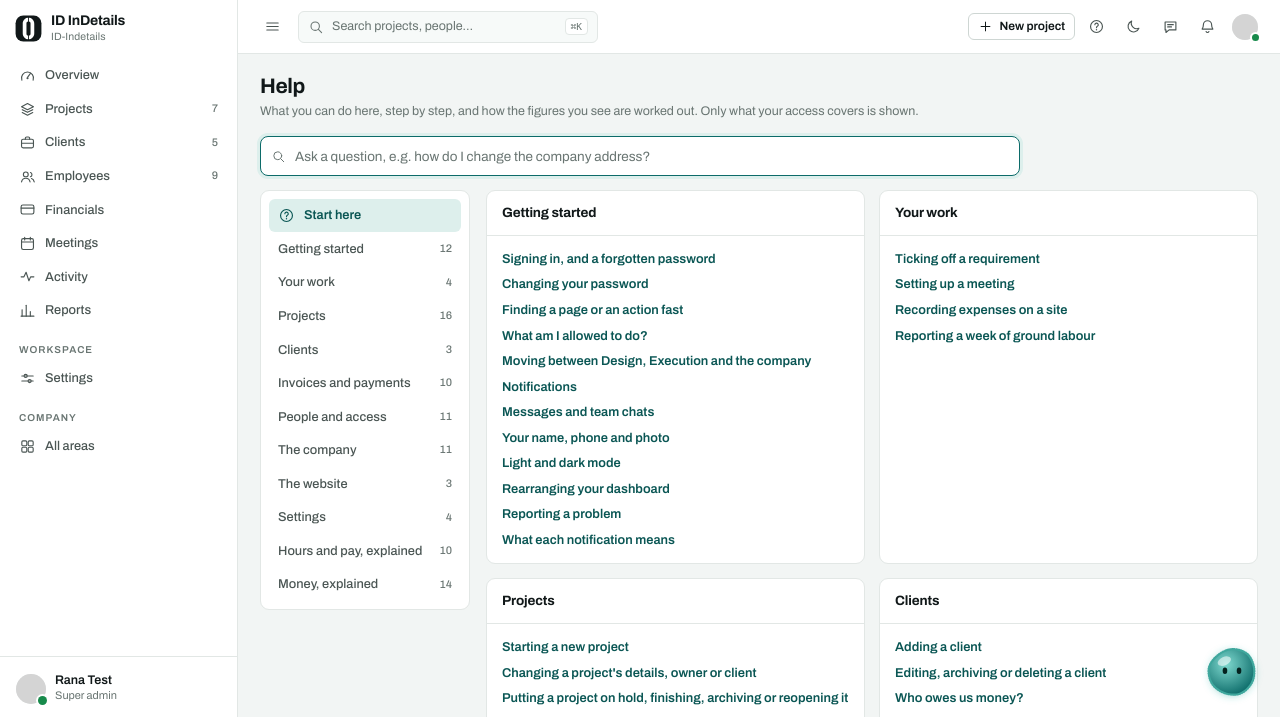
Test: Proton › carry out a proposed change only on Confirm, sending nothing but its id and conversation
Check: the field named "Search Help" is shown, box [260, 136, 1020, 176]
Click the button named "Proton, " at (1232, 672), box [1200, 640, 1264, 704]
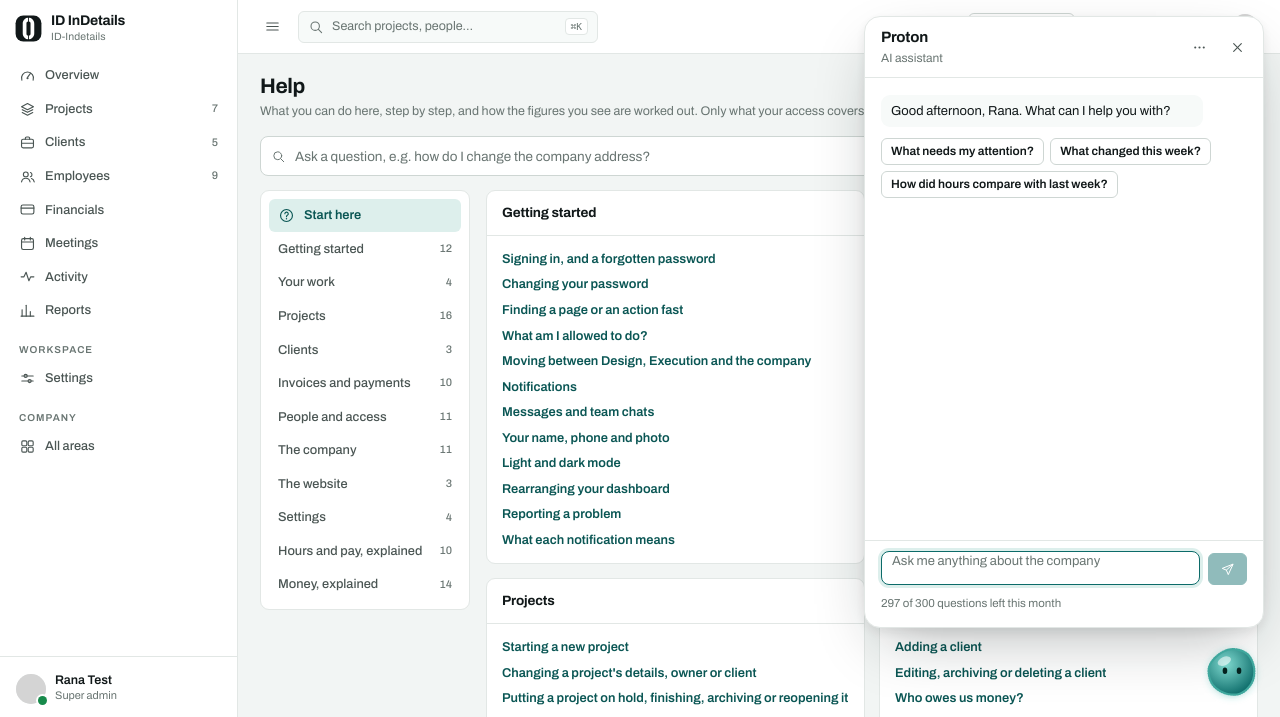
Type "Put Villa Mounir on hold" into the text box named "Ask Proton" at (1040, 568), box [881, 551, 1200, 585]
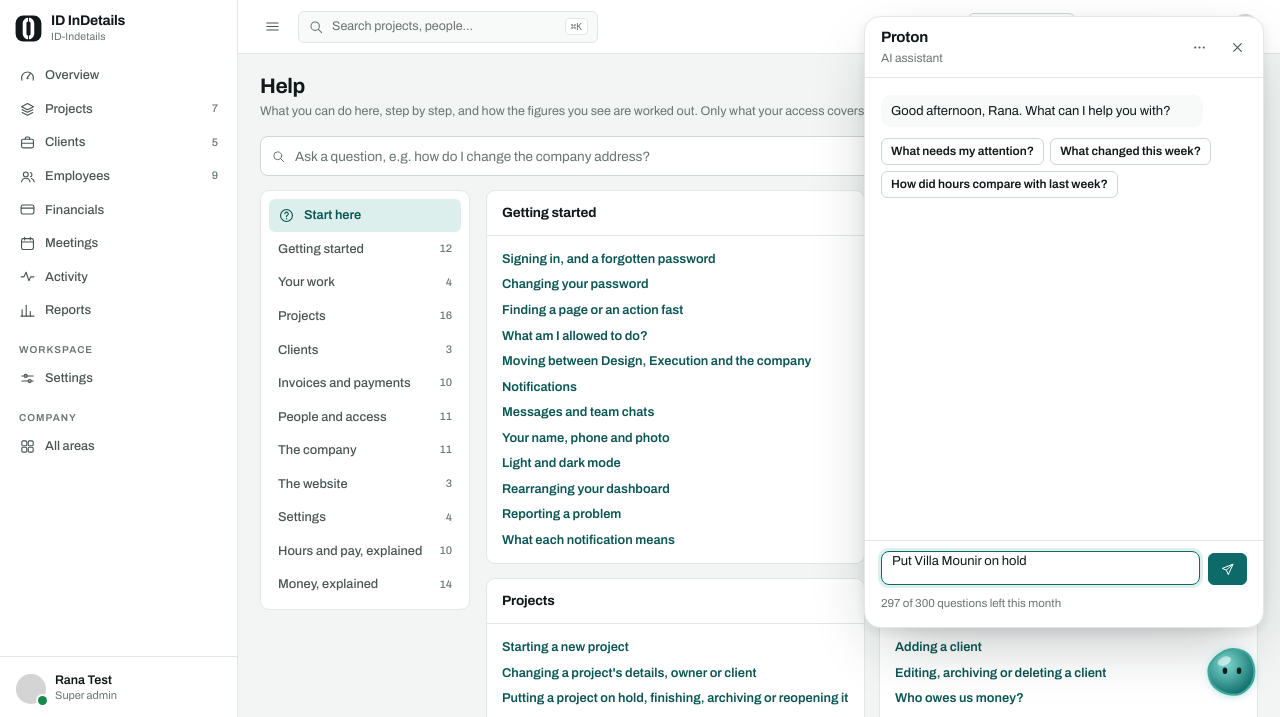
Click the button named "Send" at (1228, 569), box [1208, 553, 1247, 585]
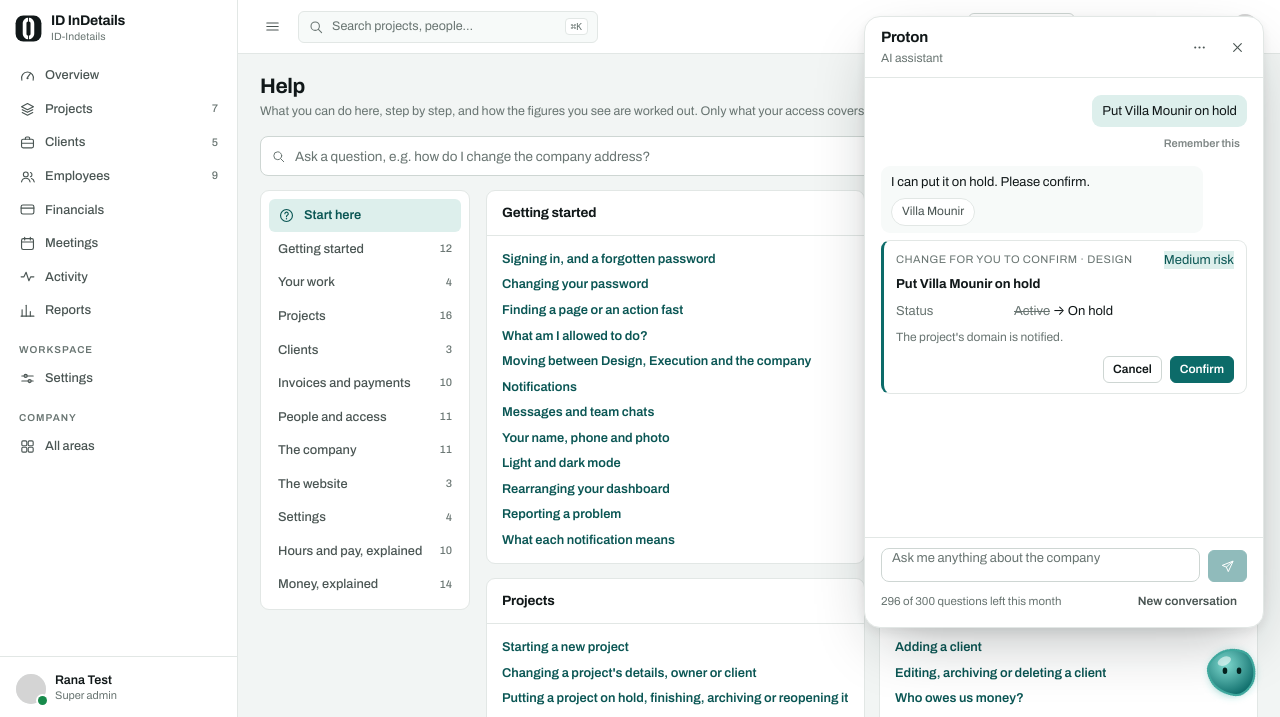
Check: the text "Medium risk" is shown, box [1164, 250, 1234, 269]
Check: the text "Active" is shown, box [1014, 304, 1050, 318]
Type "yes" into the text box named "Ask Proton" at (1040, 565), box [881, 548, 1200, 582]
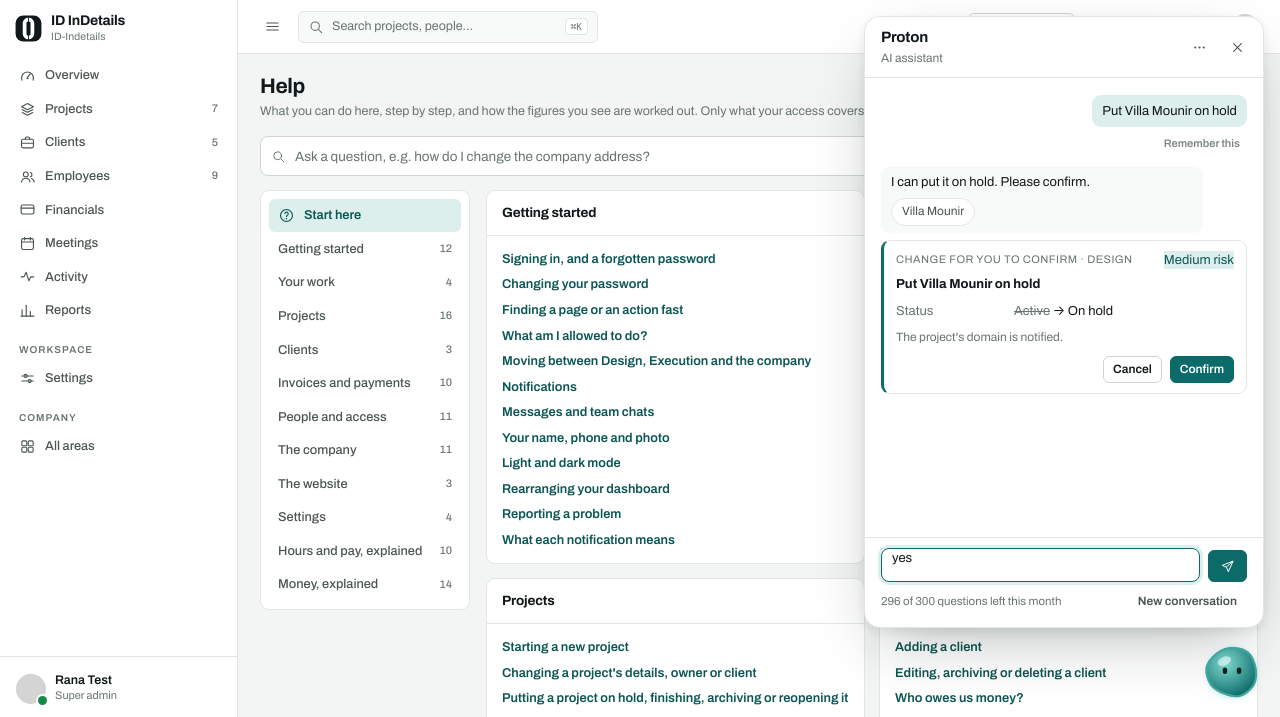
Click the button named "Send" at (1228, 566), box [1208, 550, 1247, 582]
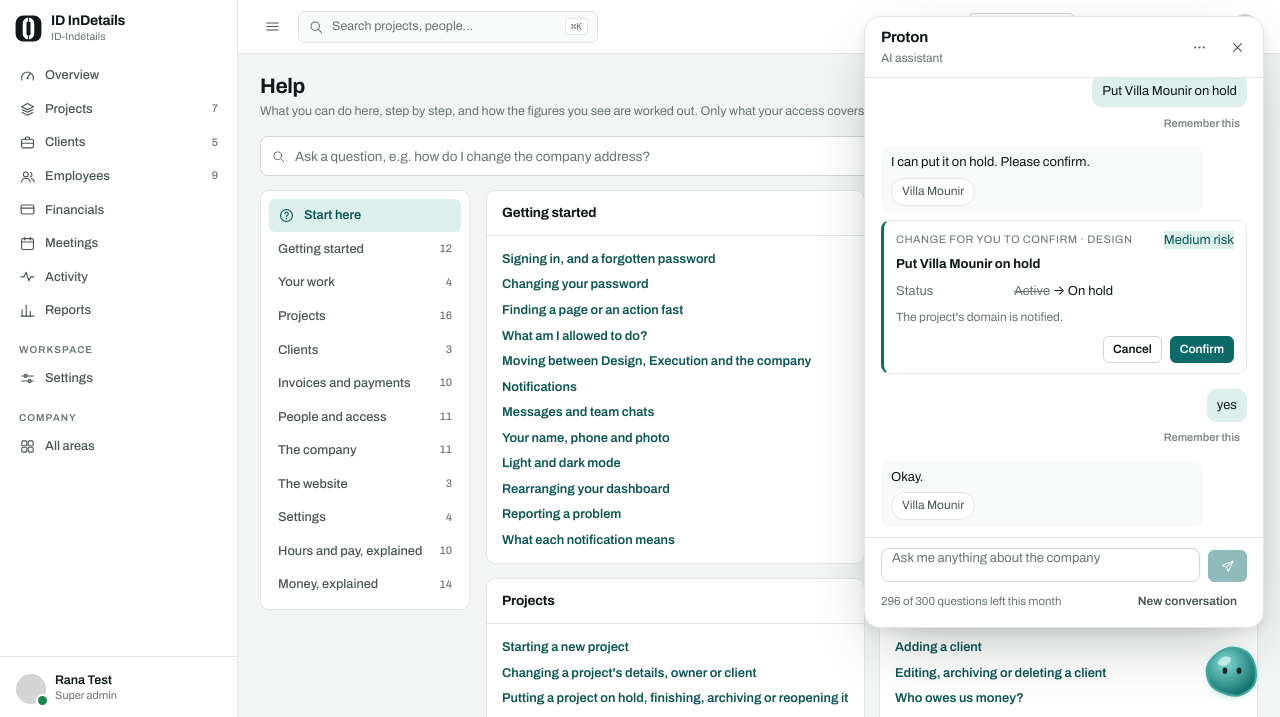
Check: the text "Okay." is shown, box [891, 470, 923, 484]
Click the button "Confirm" at (1202, 350), box [1170, 336, 1234, 363]
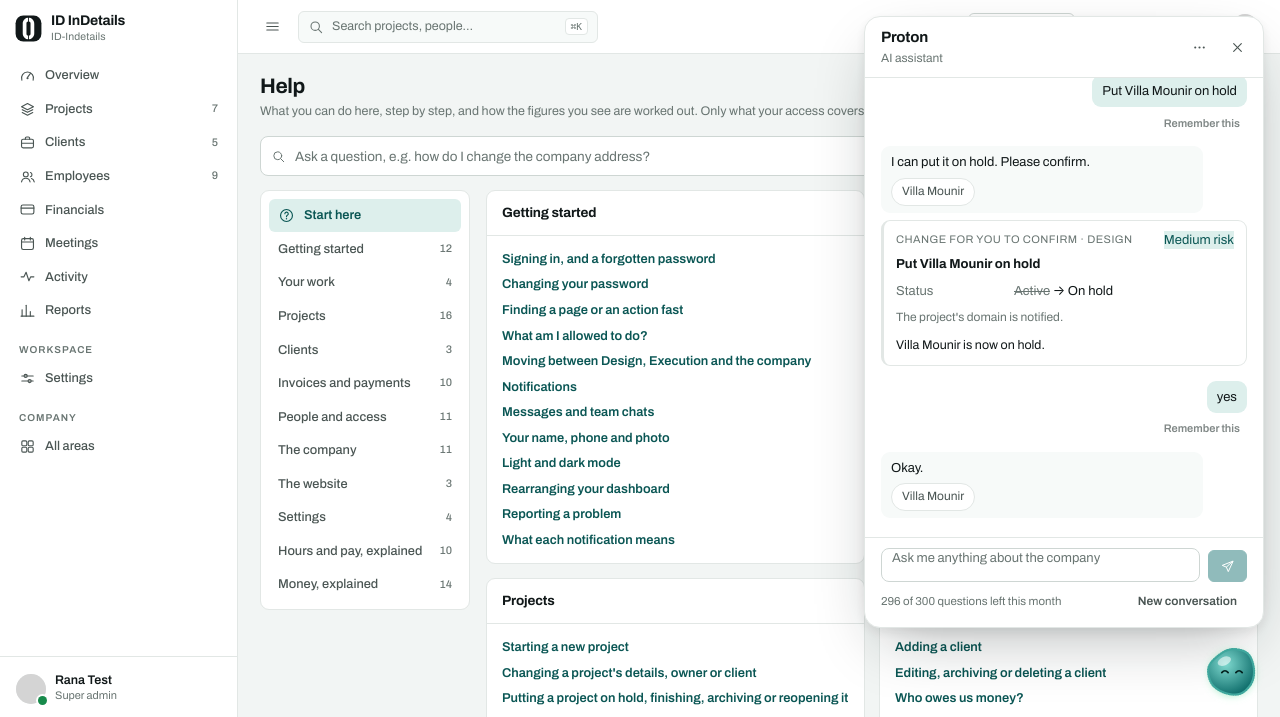
Check: the text "Villa Mounir is now on hold." is shown, box [896, 338, 1045, 352]
